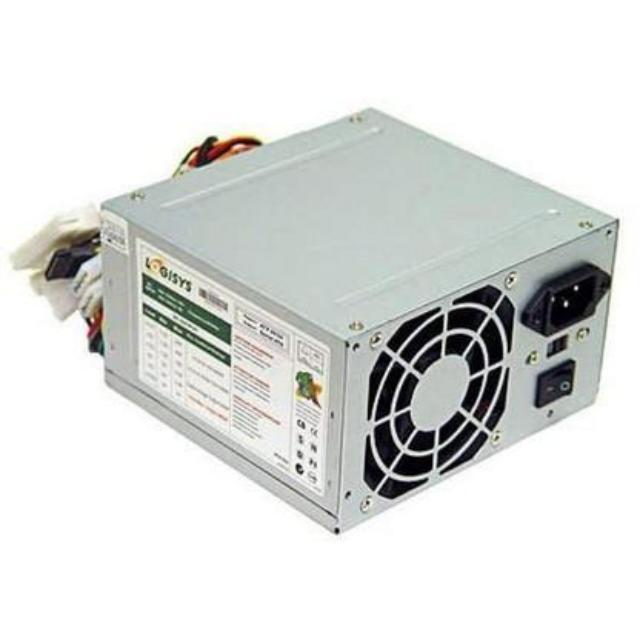PSU: (65, 97, 620, 548)
